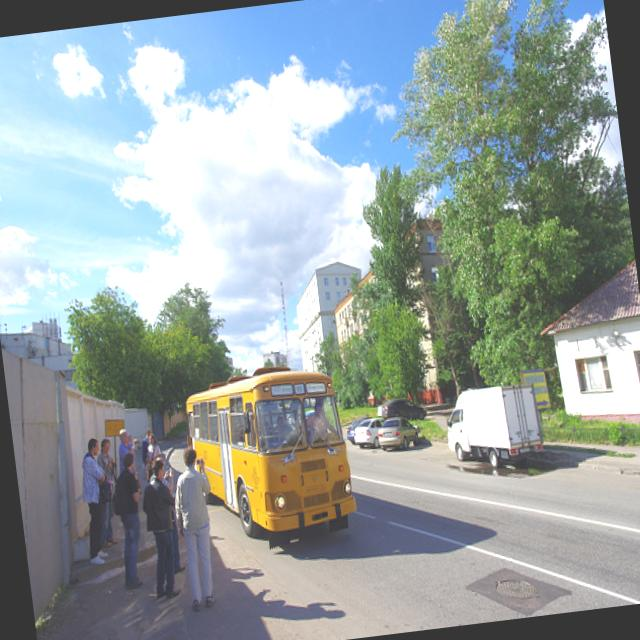Vehicle: (180, 358, 360, 544), (440, 380, 546, 476), (376, 414, 421, 452), (380, 396, 428, 426), (351, 416, 388, 450), (345, 419, 365, 443)
